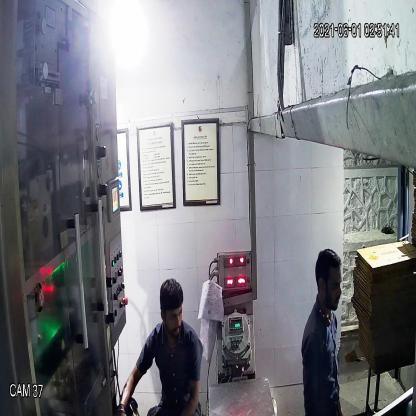no_goggles: (158, 304, 183, 323)
